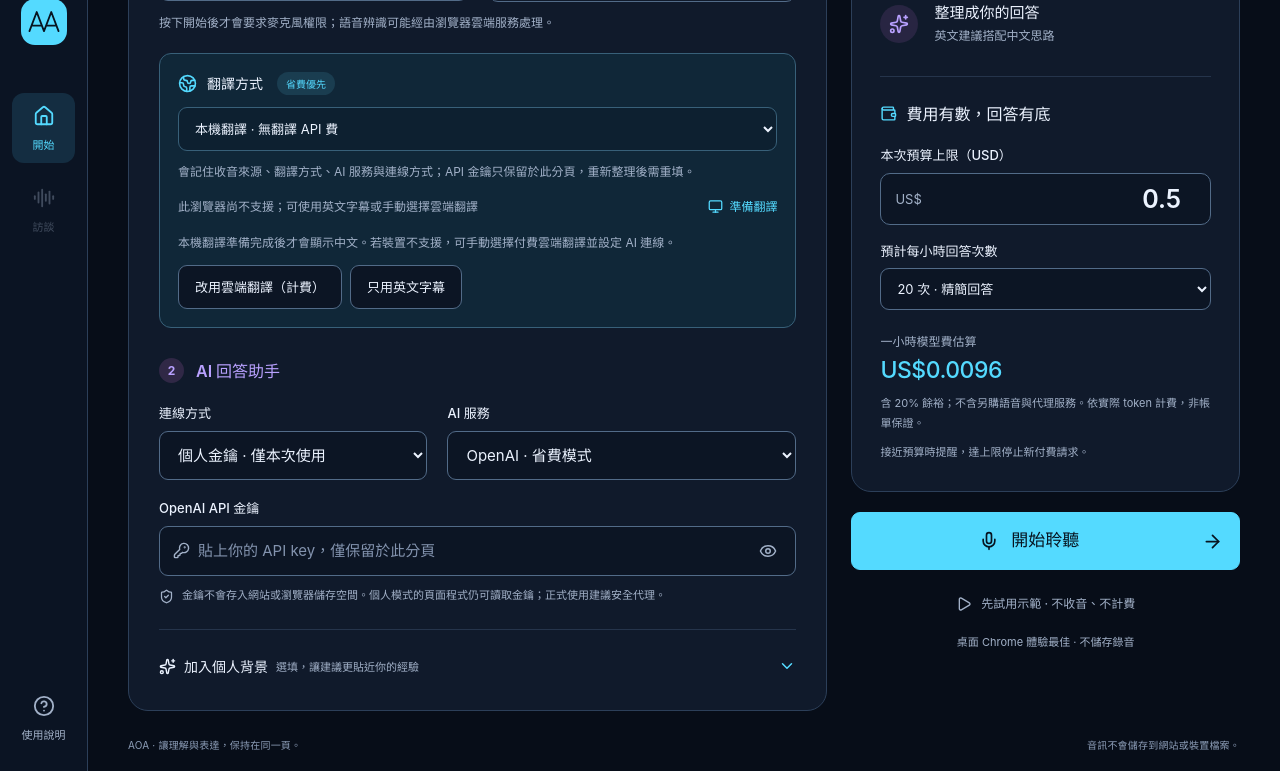
Scenario: translation readiness before starting › stays in setup after local preparation fails even when a personal key is present
(page scrolled)
Type "test-only-key" into the password field labelled "OpenAI API 金鑰" at [470, 551], box [198,527,741,575]
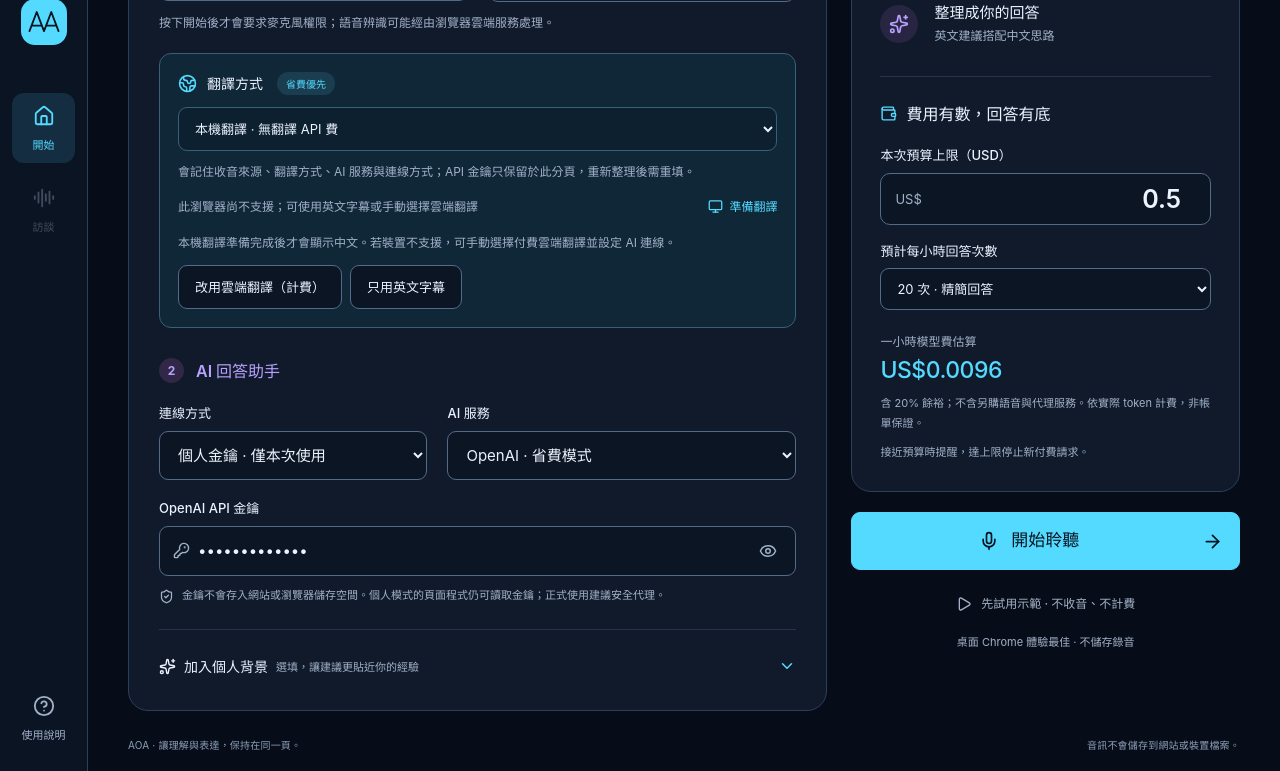
Expected: the dropdown labelled "翻譯方式" shows "本機翻譯 · 無翻譯 API 費", [178,107,777,151]
Click the button "開始聆聽" at [1046, 541], box [851,512,1240,570]
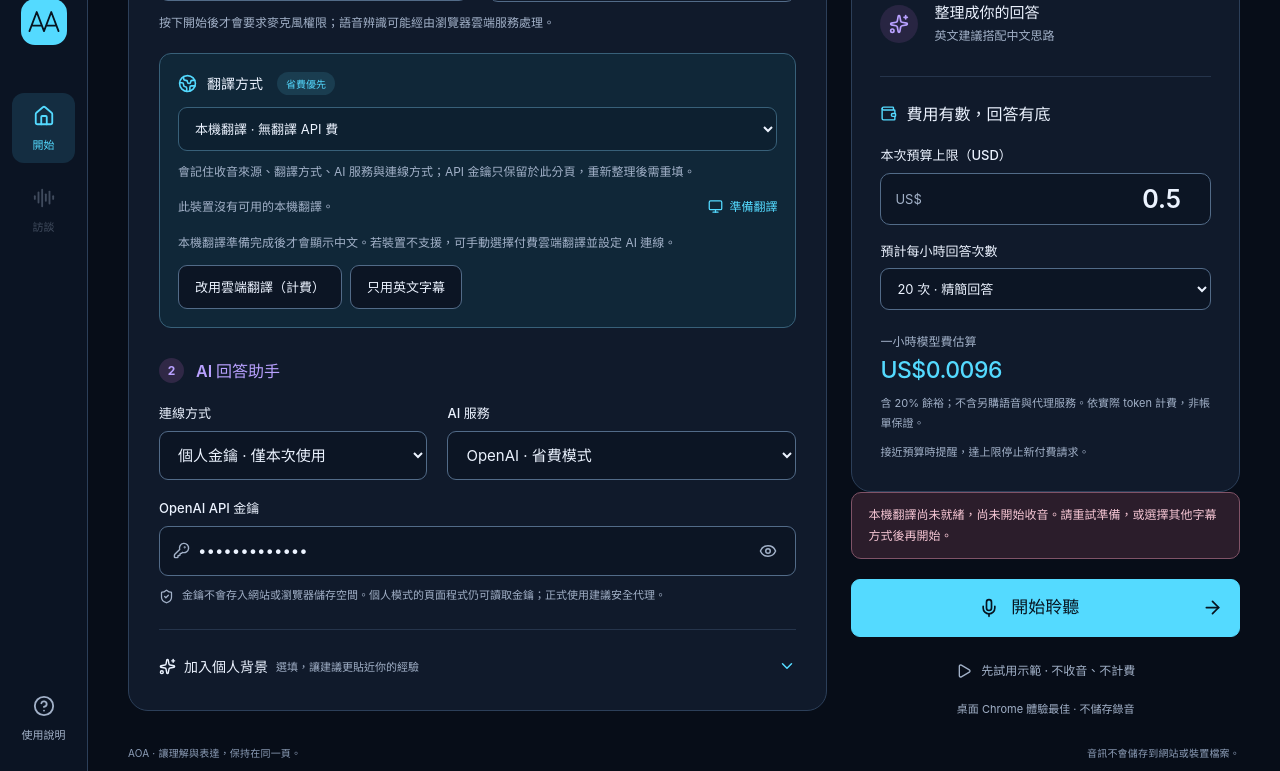
Now the message "本機翻譯尚未就緒，尚未開始收音。請重試準備，或選擇其他字幕方式後再開始。" is shown, box [851,492,1240,559]
